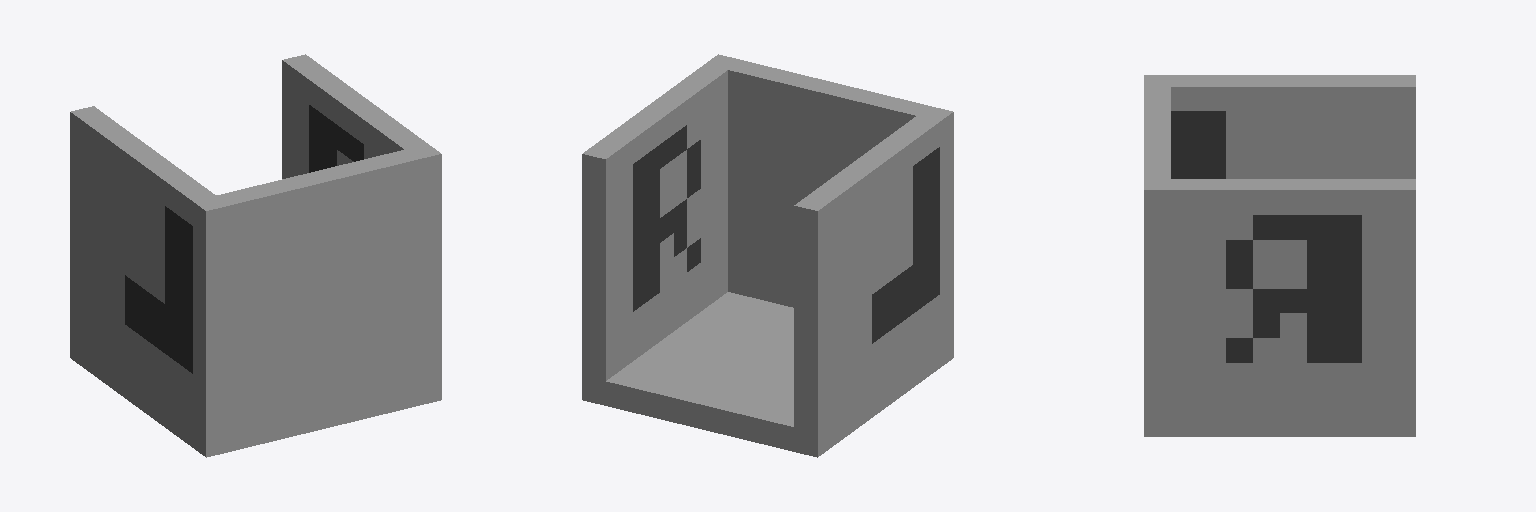
3 renders of one model, left to right at view 1: azimuth 30°, elevation 25°; view 2: azimuth 150°, elevation 25°; view 3: azimuth 270°, elevation 25°, orthographic.
Parts seen in each view (by area): view 1: T; view 2: T; view 3: T.
Part boxes in pixels (x1,y1,x2,y2): T: (70, 54, 441, 457); T: (582, 54, 953, 457); T: (1144, 75, 1415, 436).
Bounding box in the file's own units: 10 × 10 × 10.
1 materials, 1 textured.